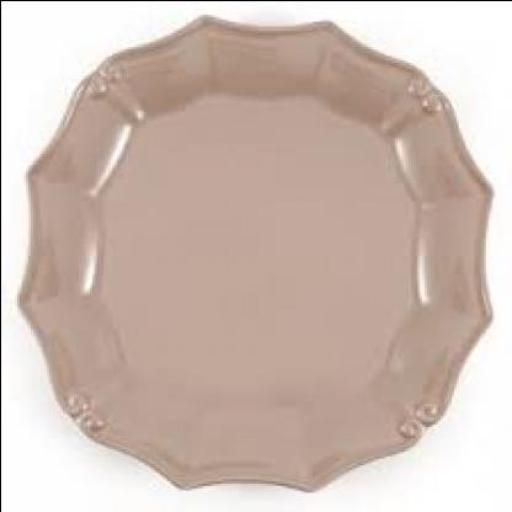glass: (21, 12, 493, 486)
